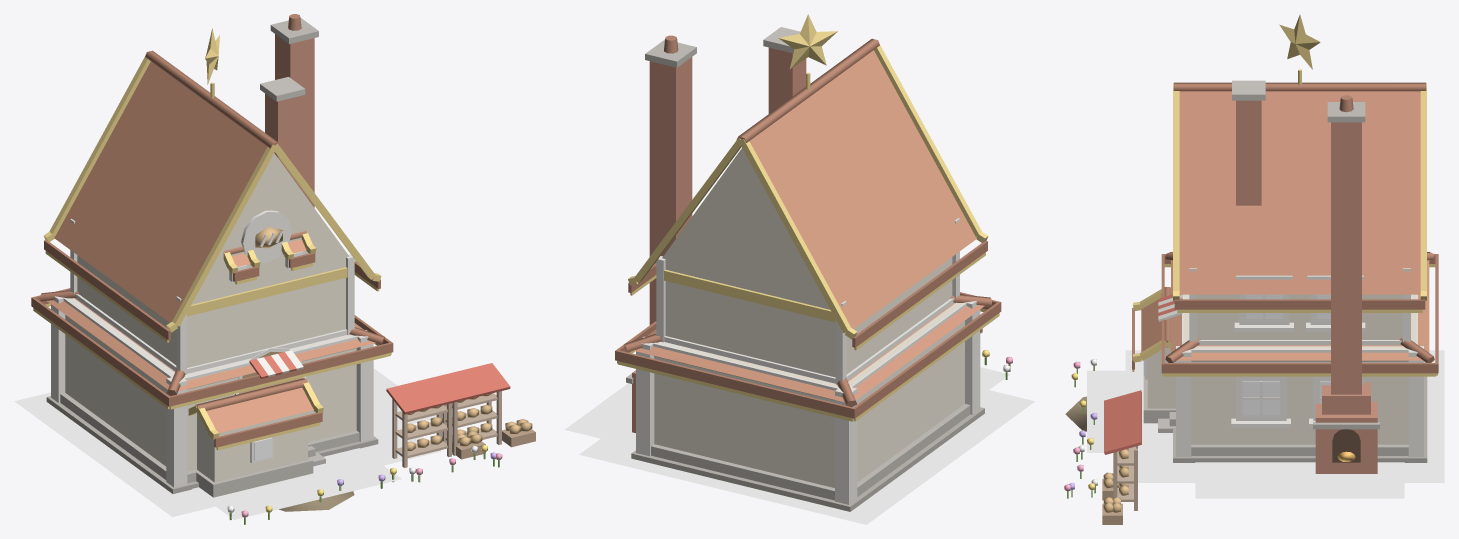
The model's file is bakery_4.glb.
3 views of the same model, side by side, from view 1: azimuth 30°, elevation 25°; view 2: azimuth 150°, elevation 25°; view 3: azimuth 270°, elevation 25° (orthographic). The views are drawn at different scales.
Visible parts, largest first — view 1: body4, bakery_4, body3; view 2: body4, bakery_4; view 3: body4, bakery_4, body3.
Boxes of the visible parts, bbox=[...] form: body4: bbox=[31, 14, 510, 524]; bakery_4: bbox=[14, 368, 441, 519]; body3: bbox=[407, 393, 535, 459]; body4: bbox=[615, 14, 1012, 511]; bakery_4: bbox=[564, 367, 1034, 524]; body4: bbox=[1064, 14, 1438, 510]; bakery_4: bbox=[1087, 350, 1444, 498]; body3: bbox=[1102, 448, 1128, 524].
Bounding box in the file's own units: 2.8 × 3.03 × 2.6.
